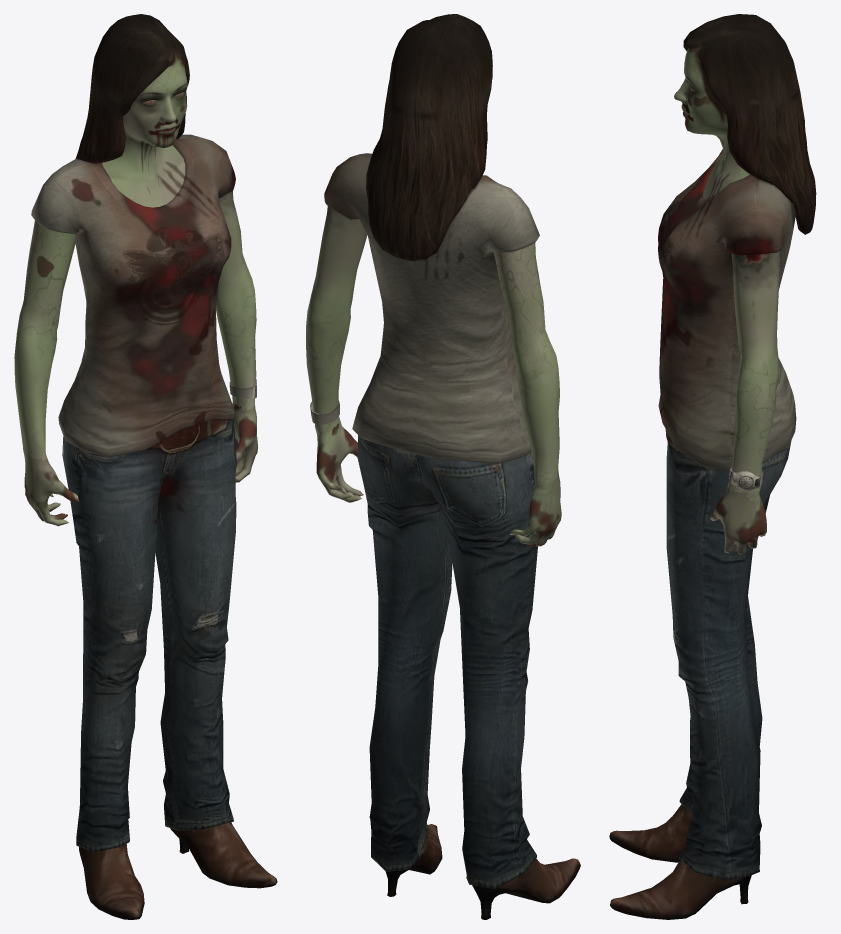
The model's file is woman.glb.
The picture shows the model from 3 angles, left to right: view 1: azimuth 30°, elevation 25°; view 2: azimuth 150°, elevation 25°; view 3: azimuth 270°, elevation 25°; orthographic projection. The views are drawn at different scales.
Parts seen in each view (by area): view 1: woman; view 2: woman; view 3: woman.
Part boxes in pixels (bbox=[...]): woman: bbox=[14, 14, 277, 919]; woman: bbox=[306, 14, 580, 919]; woman: bbox=[609, 14, 816, 919].
Bounding box in the file's own units: 0.5108 × 1.74 × 0.3966.
3 materials, 3 textured.
